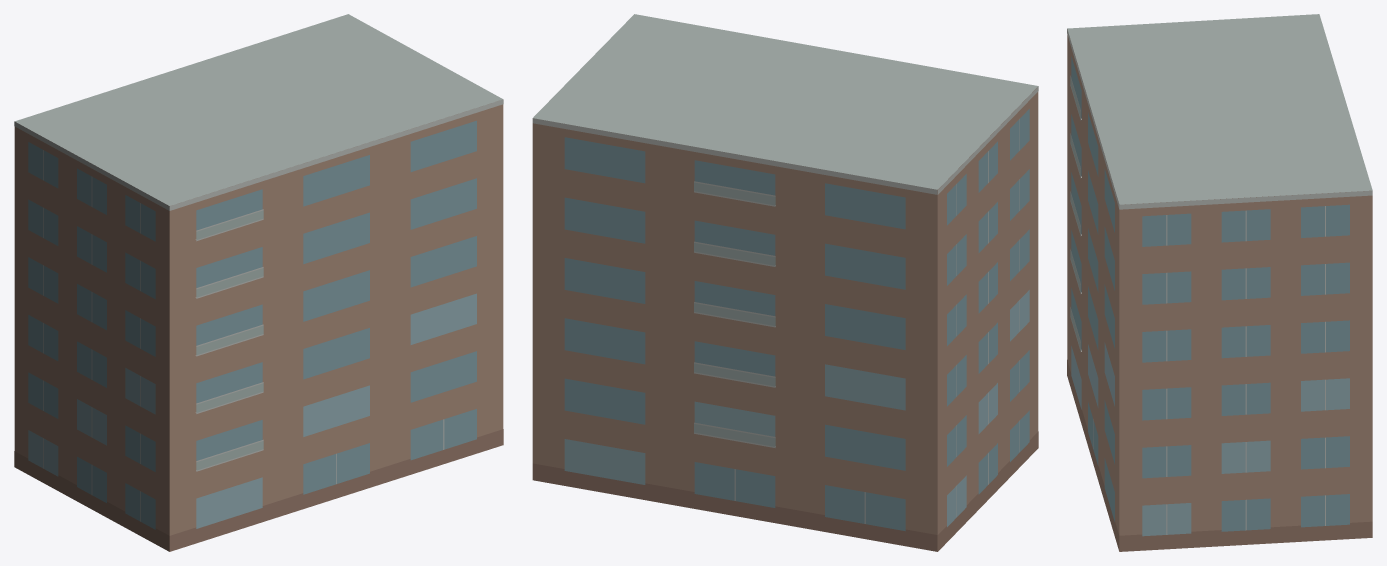
The model's file is survey-upis-32894099.glb.
3 renders of one model, left to right at view 1: azimuth 30°, elevation 25°; view 2: azimuth 150°, elevation 25°; view 3: azimuth 270°, elevation 25°, orthographic. The views are drawn at different scales.
Parts seen in each view (by area): view 1: survey-upis-32894099.tmp; view 2: survey-upis-32894099.tmp; view 3: survey-upis-32894099.tmp.
Part boxes in pixels (bbox=[...]): survey-upis-32894099.tmp: bbox=[14, 14, 503, 551]; survey-upis-32894099.tmp: bbox=[532, 14, 1038, 551]; survey-upis-32894099.tmp: bbox=[1067, 14, 1372, 551].
Size of the model in its own units: 20.28 by 17.2 by 13.73.
